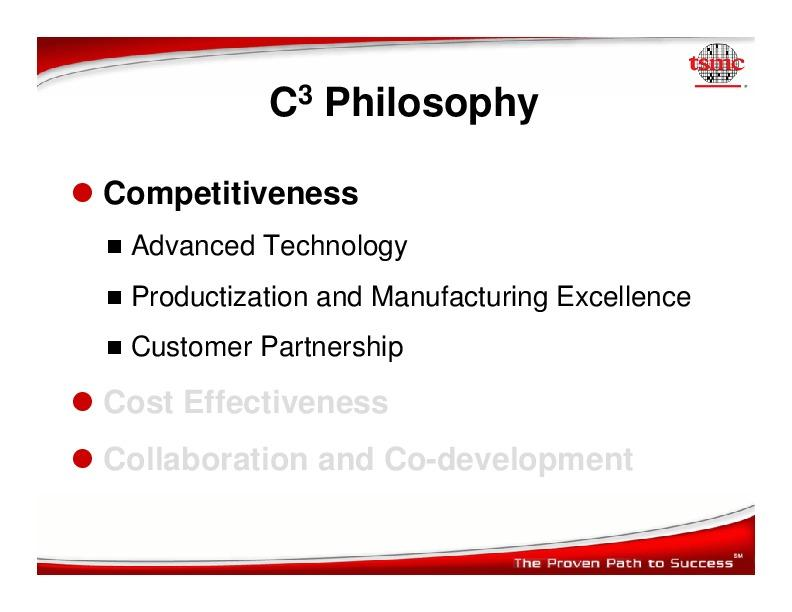paragraph: (133, 230, 738, 368)
subtitle: (105, 171, 364, 216)
title: (263, 78, 556, 132)
